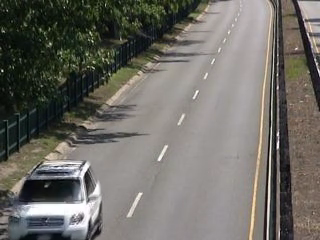car: (8, 157, 115, 240)
